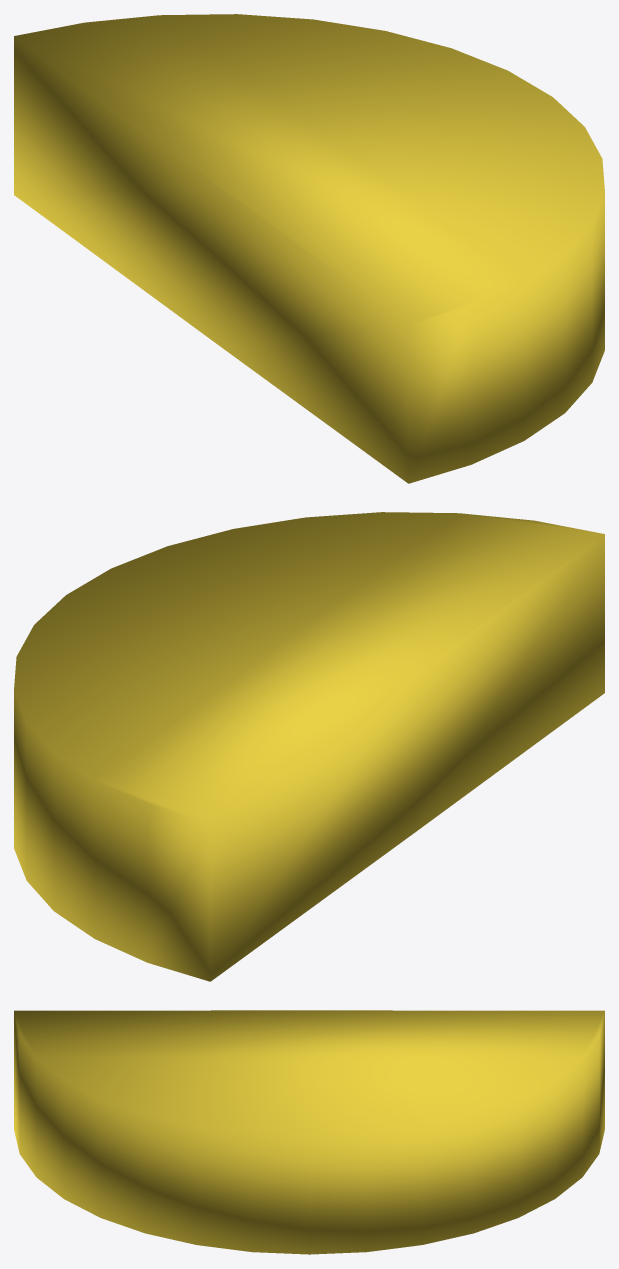
The model's file is semicircle.glb.
3 views of the same model, one above another, from view 1: azimuth 30°, elevation 25°; view 2: azimuth 150°, elevation 25°; view 3: azimuth 270°, elevation 25° (orthographic). The views are drawn at different scales.
Visible parts, largest first — view 1: Circle; view 2: Circle; view 3: Circle.
Part boxes in pixels (x1=…): Circle: x1=14, y1=14, x2=604, y2=483; Circle: x1=14, y1=512, x2=604, y2=981; Circle: x1=14, y1=1010, x2=604, y2=1254.
Bounding box in the file's own units: 1 × 0.4445 × 2.
